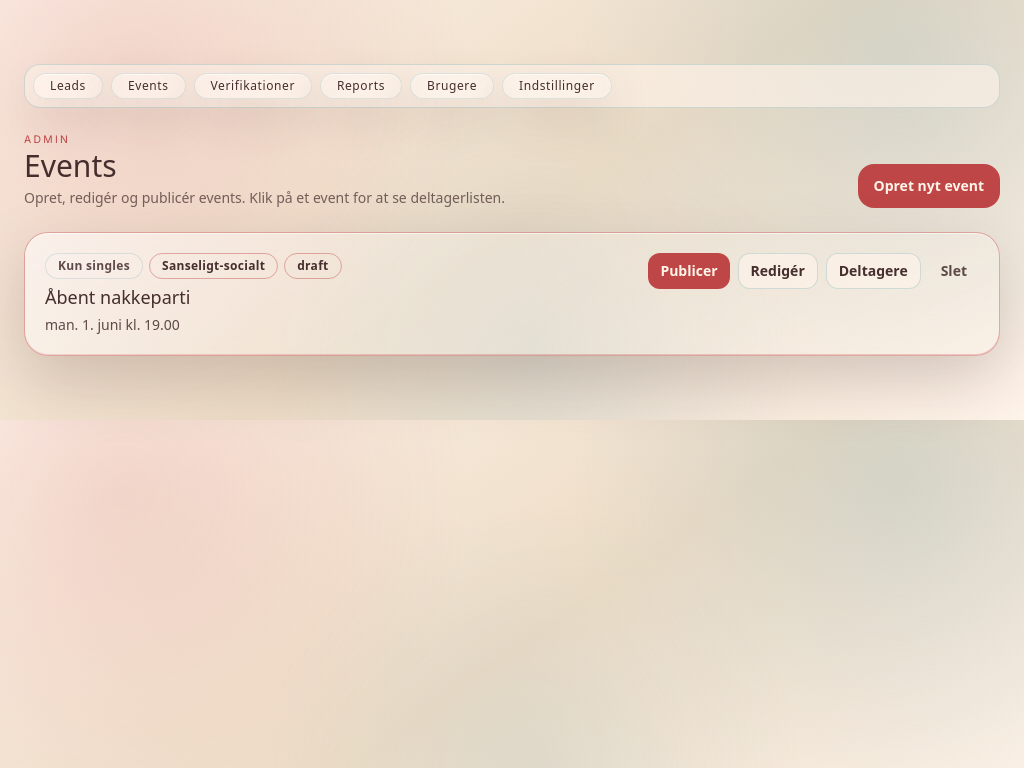
Test: AdminEventsPage › loads and displays the registrations list when Deltagere is clicked
The width and height of the screenshot is (1024, 768).
Expected: the text "Åbent nakkeparti" is shown, [45,285,190,309]
Click the button with test id "toggle-registrations-evt-1".
click(873, 271)  # box [826,253,921,289]
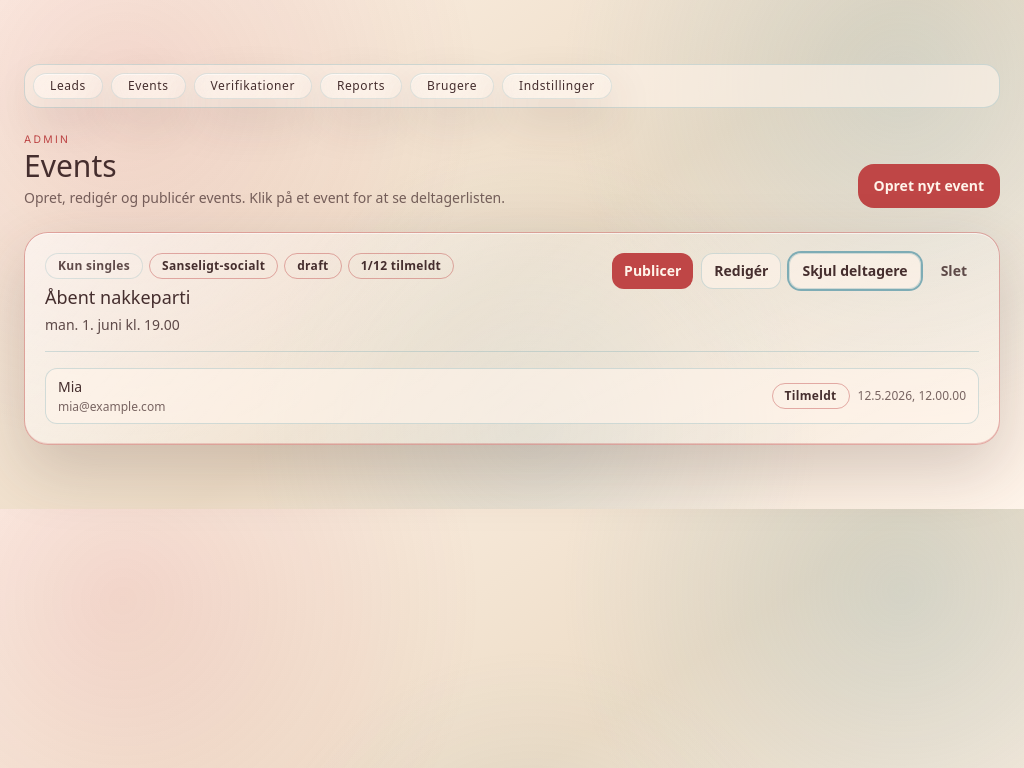
Expected: the text "Mia" is shown, [58,377,82,396]
Expected: the text "mia@example.com" is shown, [58,399,165,415]
Expected: the text "Tilmeldt" is shown, [772,383,850,409]
